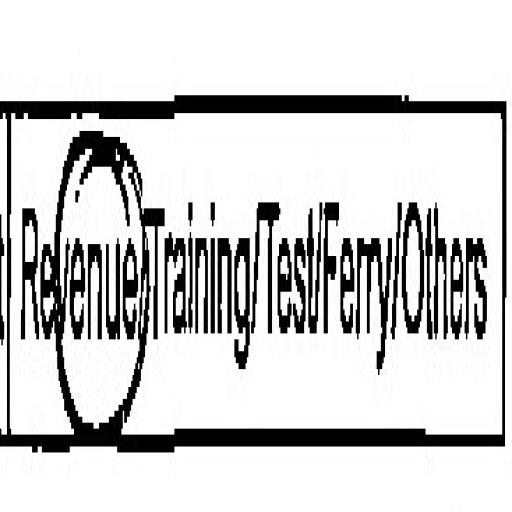check: (9, 33, 144, 487)
